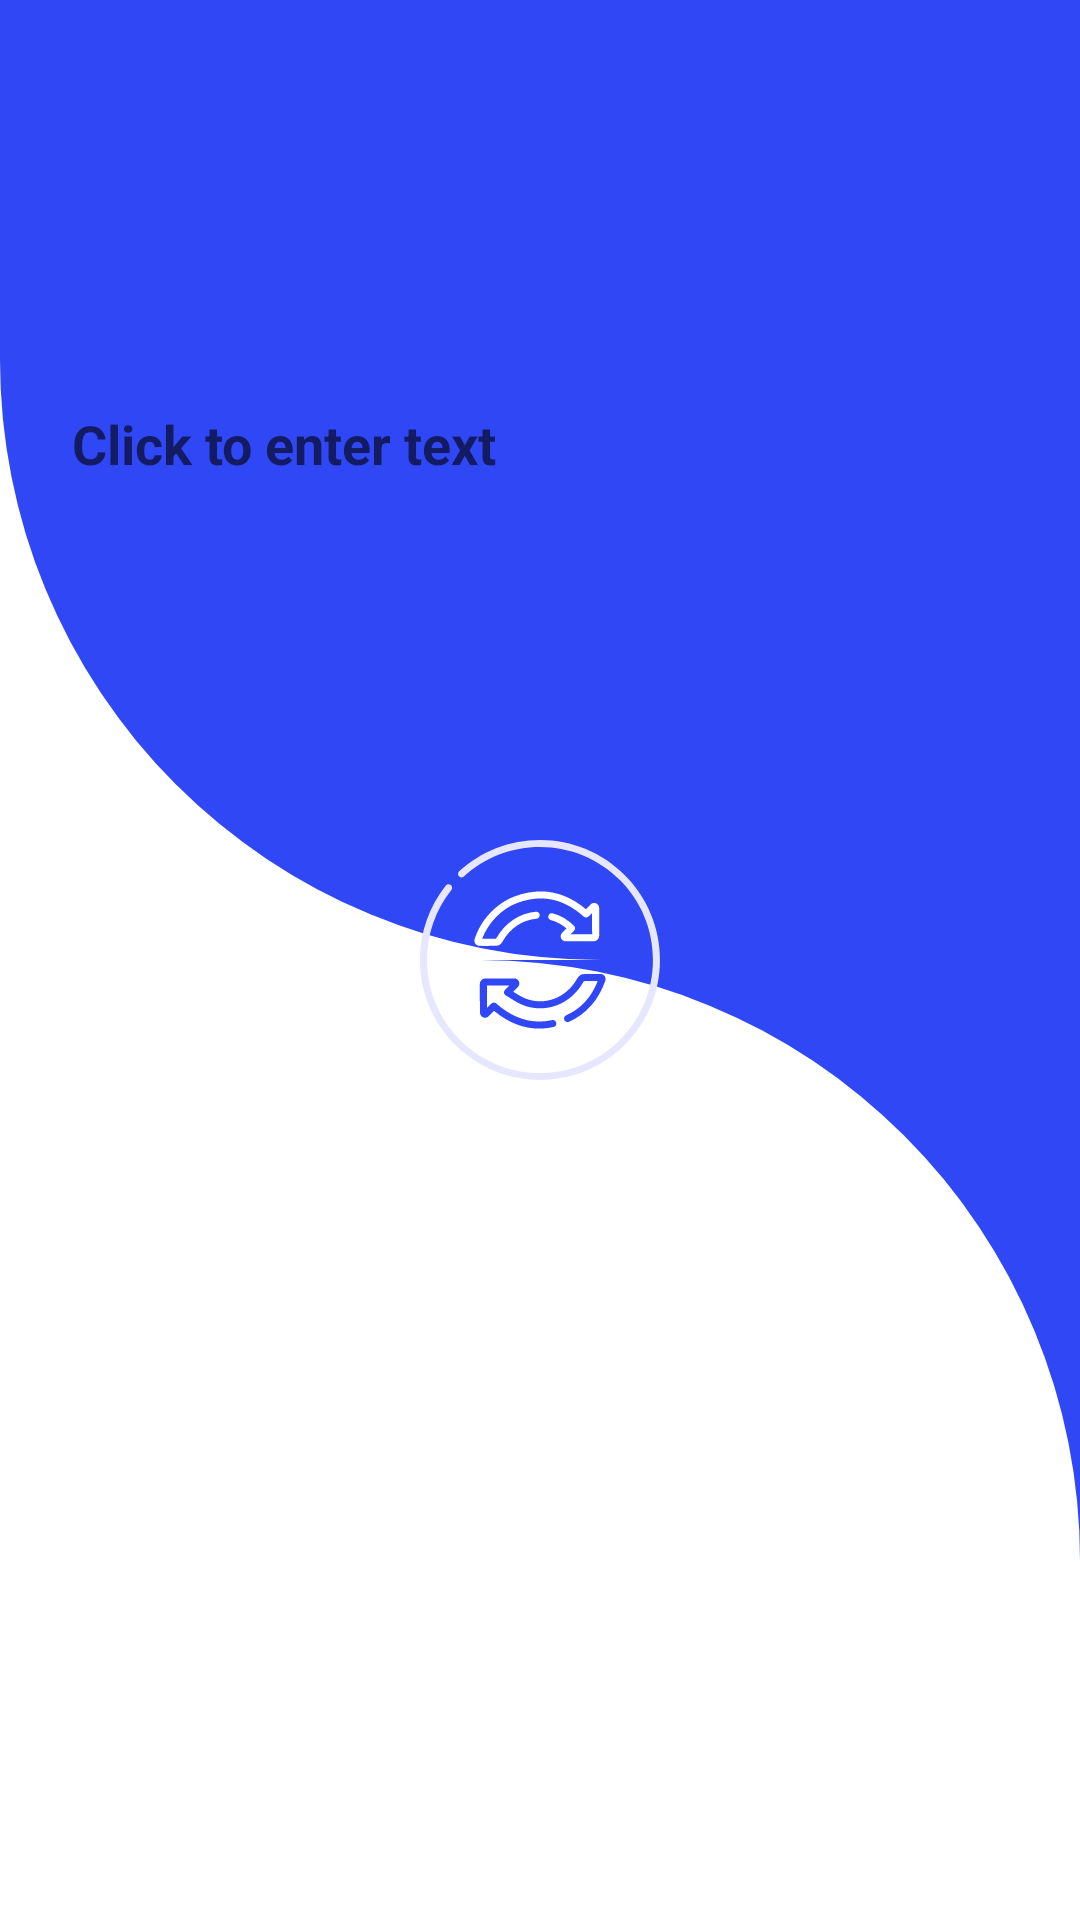

Screen size 1080*1920. Icon name, then its center in pixels as point (x, y):
sync: point (540, 960)
